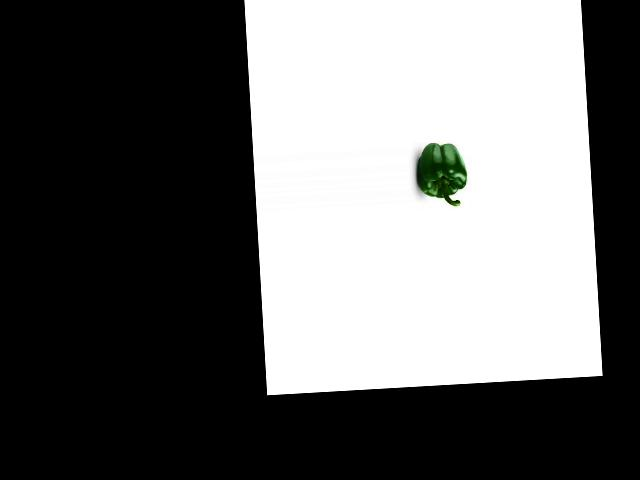bell_pepper: (416, 139, 469, 209)
